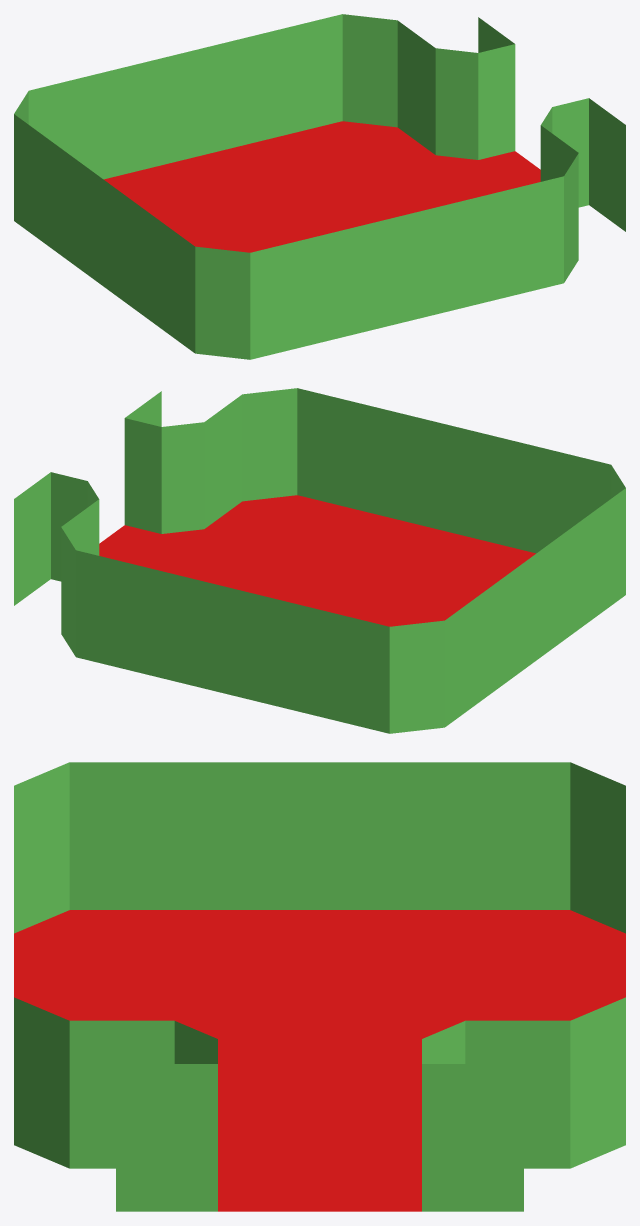
Rendered from collider_elevator.fbx.
3 views of the same model, one above another, from view 1: azimuth 30°, elevation 25°; view 2: azimuth 150°, elevation 25°; view 3: azimuth 270°, elevation 25° (orthographic). The views are drawn at different scales.
Parts seen in each view (by area): view 1: col_elevator; view 2: col_elevator; view 3: col_elevator.
Part boxes in pixels (x1,y1,x2,y2): col_elevator: (14,14,625,359); col_elevator: (14,388,625,733); col_elevator: (14,762,625,1211).
Size of the model in its own units: 1750 by 400 by 1500.
